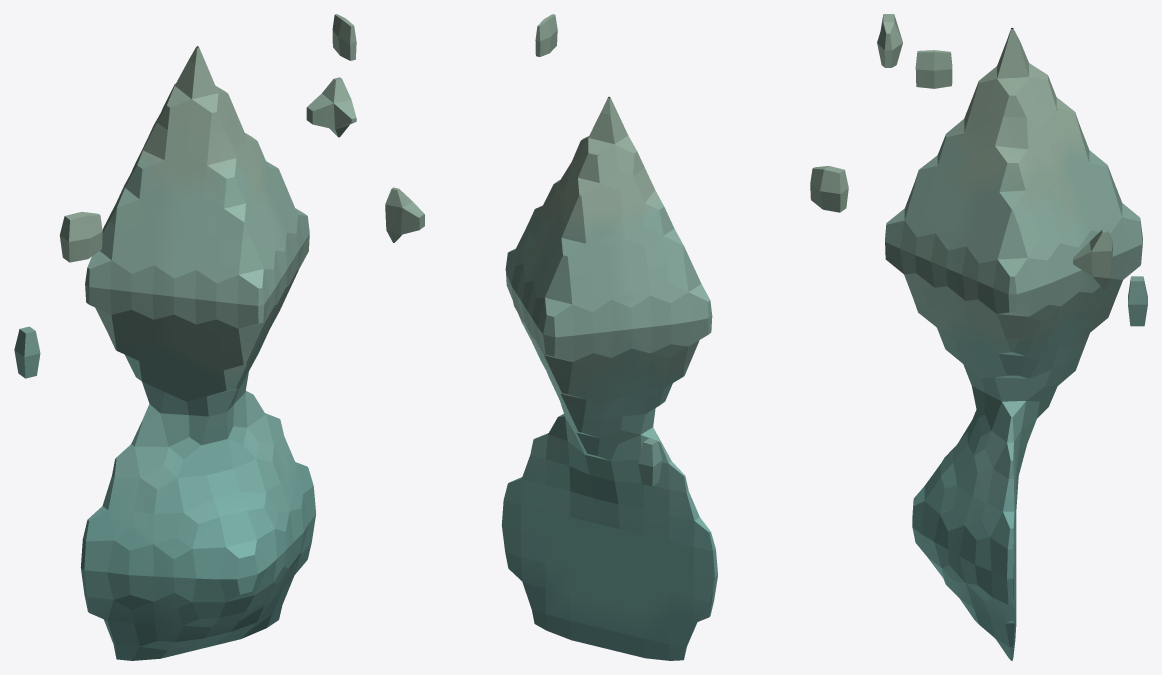
File: fireElemental.glb
3 renders of one model, left to right at view 1: azimuth 30°, elevation 25°; view 2: azimuth 150°, elevation 25°; view 3: azimuth 270°, elevation 25°, orthographic. The views are drawn at different scales.
Visible parts, largest first — view 1: geometry_0; view 2: geometry_0; view 3: geometry_0.
Boxes of the visible parts, left/top/right/bottom form: geometry_0: left=14, top=14, right=356, bottom=660; geometry_0: left=385, top=14, right=848, bottom=660; geometry_0: left=877, top=14, right=1147, bottom=660.
Size of the model in its own units: 0.6023 by 0.9325 by 0.3635.
1 material, 1 textured.
